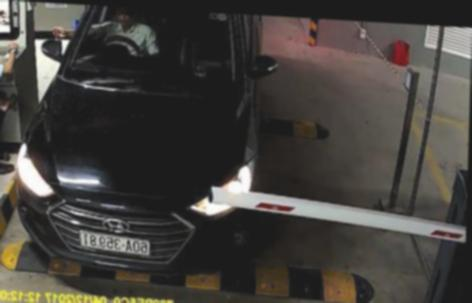License_Plate: (80, 232, 150, 255)
